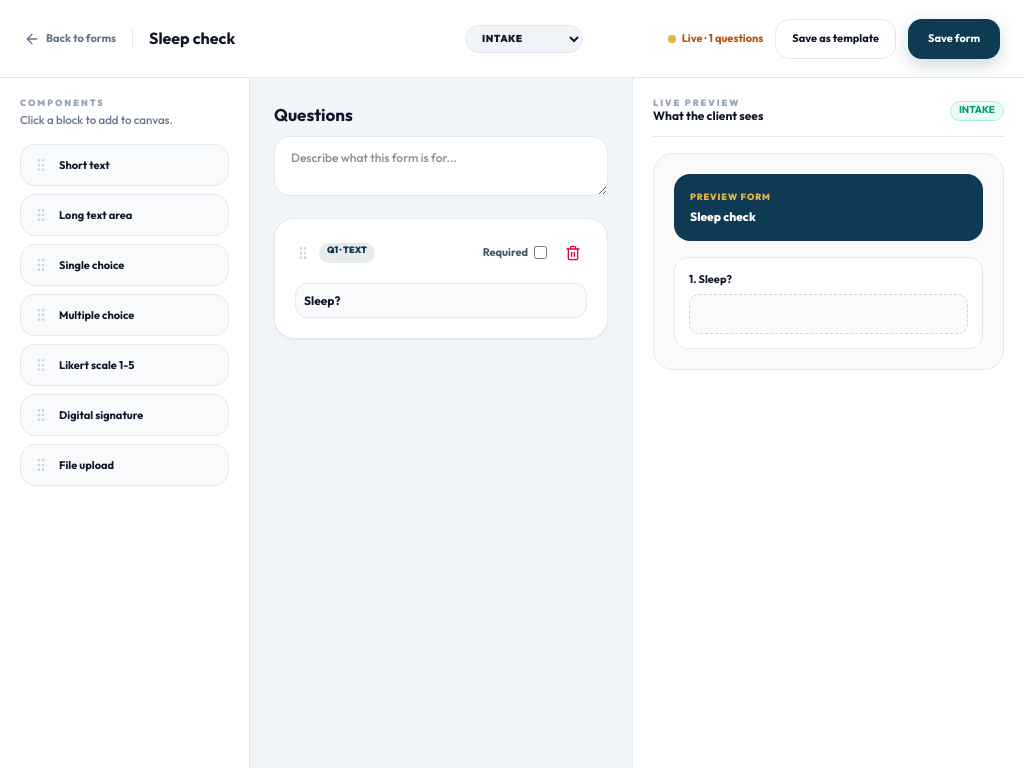
Test case: Forms pages › a saved form can be saved as a template from the editor
What coordinates should you click on to do the following:
click the button "Save as template"
I would click on:
 (836, 38)
Its box is [775,18,896,58].
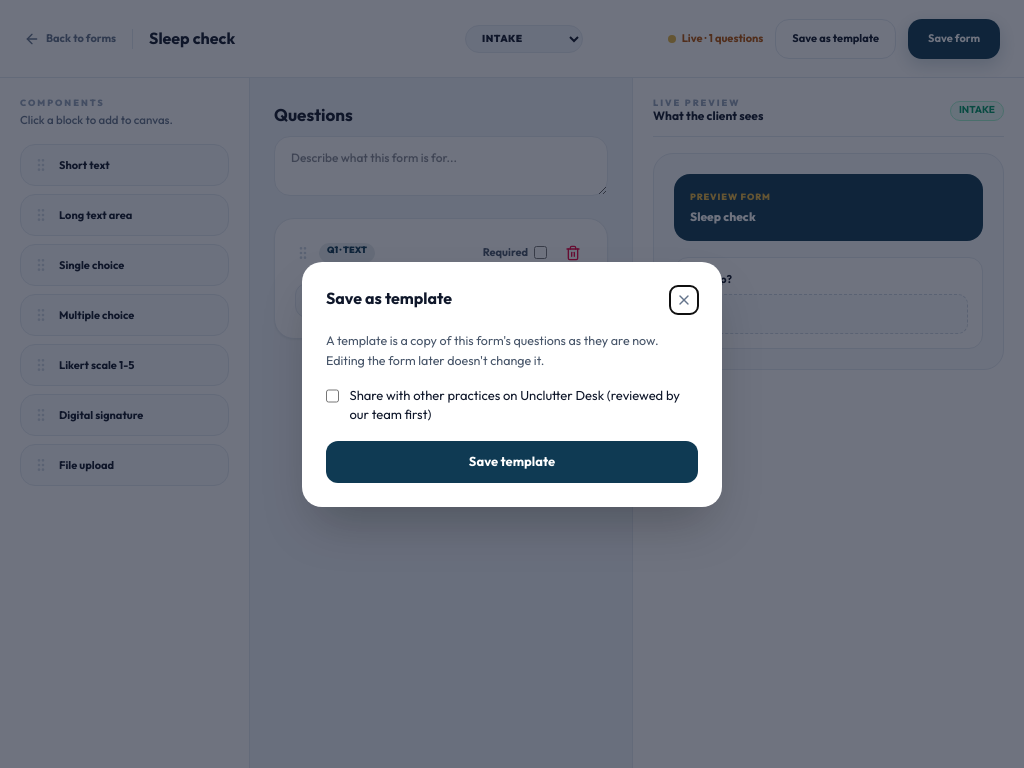
Expected: the button "Save form" is shown, [908,18,1000,58]
Now the button "Save template" is shown, box [326,440,698,482]
